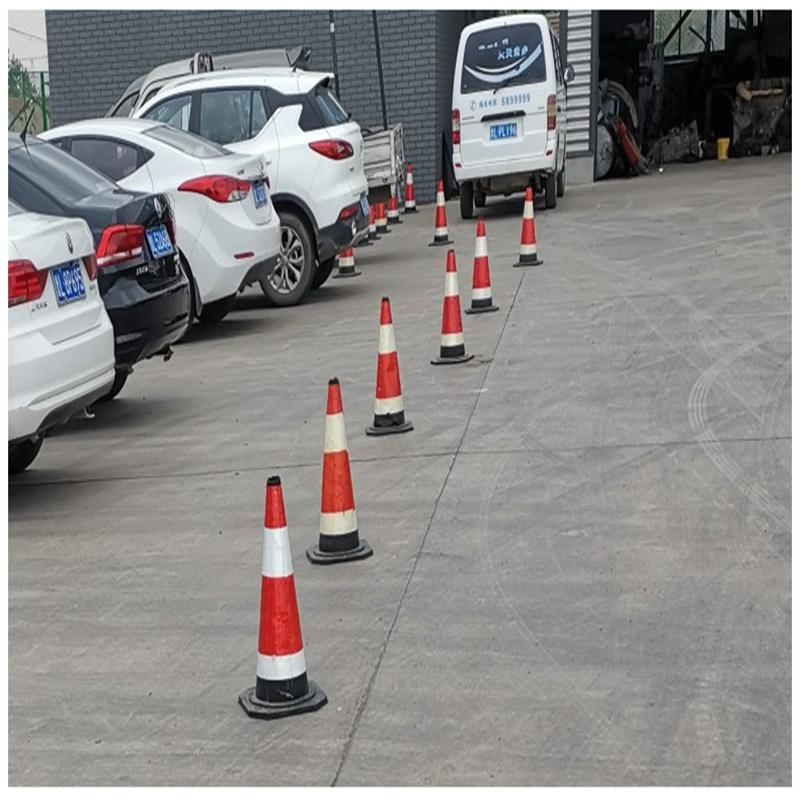traffic_cone: (219, 475, 327, 725), (300, 369, 376, 585), (354, 291, 424, 448), (424, 252, 484, 372), (459, 215, 514, 317), (501, 183, 564, 270), (426, 175, 458, 256)
